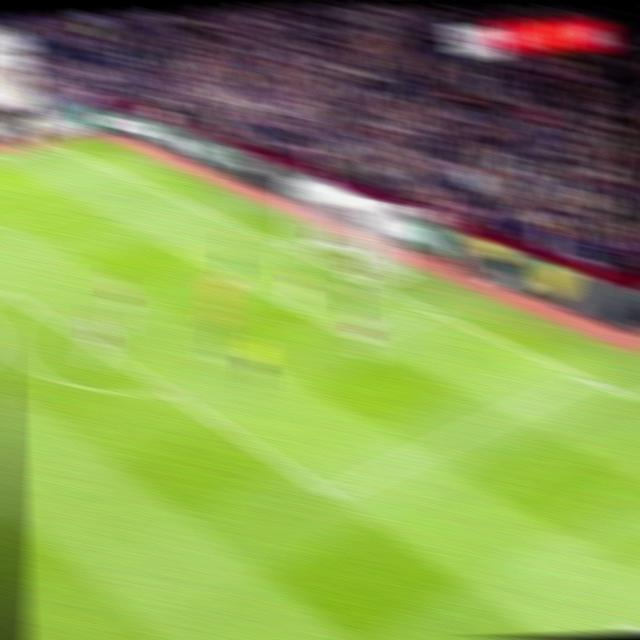bigarea_bottom_inner: (314, 475, 348, 516)
bigarea_bottom_outter: (569, 365, 600, 390)
bigarea_top_outter: (143, 180, 166, 199)
bottom_arc_area_intersection: (154, 380, 184, 409)
corner: (42, 144, 67, 152)
smallarea_bottom_outter: (416, 300, 446, 325)
smallarea_top_inner: (162, 235, 190, 262)
smallarea_top_outter: (231, 217, 258, 241)
top_arc_area_intersection: (10, 290, 41, 320)
